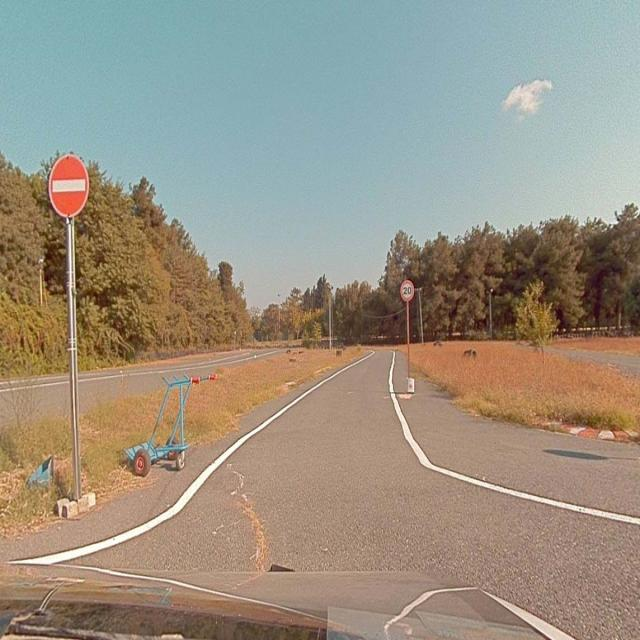20: (401, 279, 414, 300)
girisyok: (50, 155, 88, 217)
